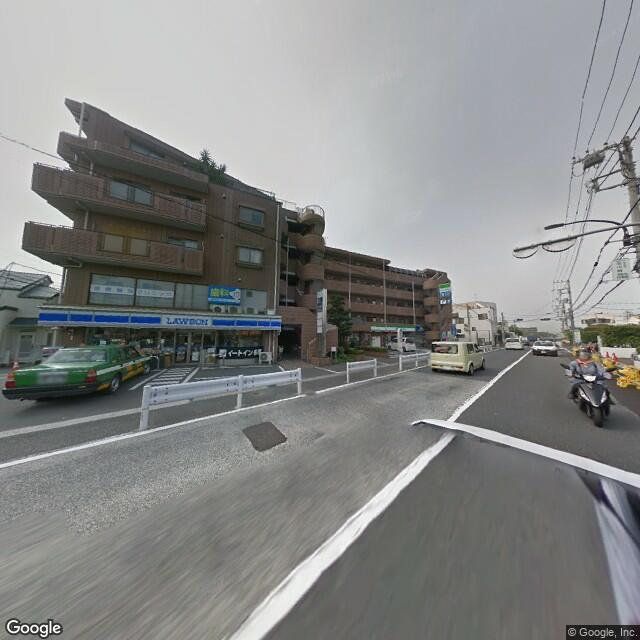lawson: (37, 305, 282, 336)
